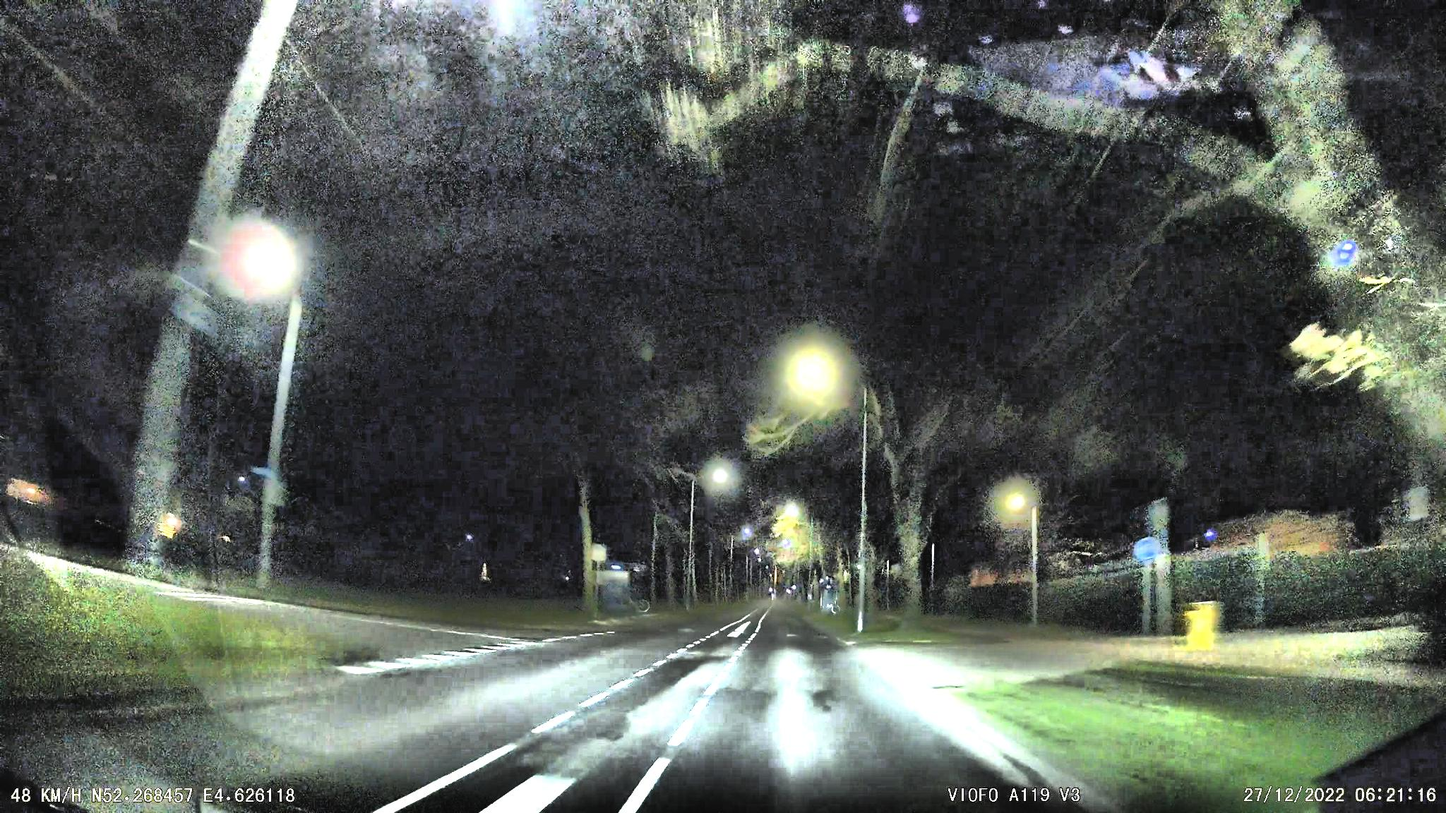Roads: (242, 609, 1073, 813)
